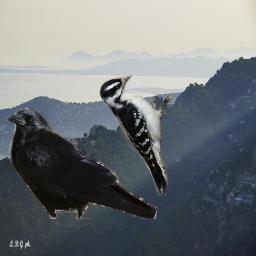Crow: (5, 108, 157, 219)
Woodpecker: (99, 75, 176, 196)
